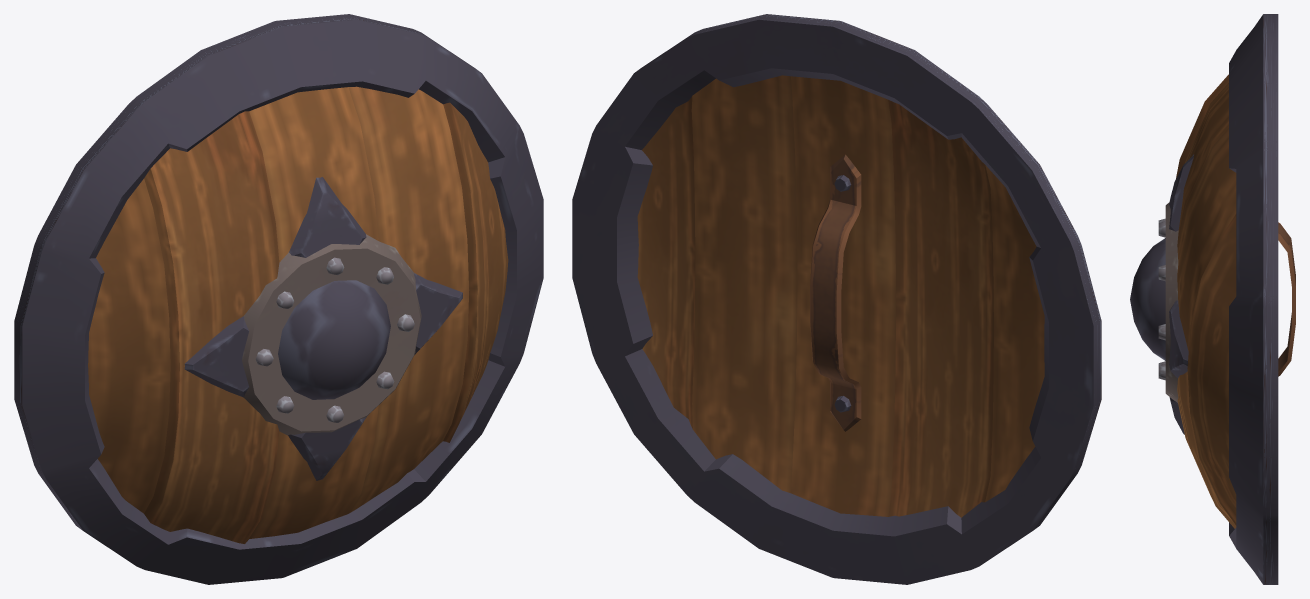
The model's file is shield_wooden.glb.
3 renders of one model, left to right at view 1: azimuth 30°, elevation 25°; view 2: azimuth 150°, elevation 25°; view 3: azimuth 270°, elevation 25°, orthographic. The views are drawn at different scales.
Parts seen in each view (by area): view 1: Shield_Wooden; view 2: Shield_Wooden; view 3: Shield_Wooden.
Part boxes in pixels (x1=…): Shield_Wooden: x1=14, y1=14, x2=543, y2=584; Shield_Wooden: x1=572, y1=14, x2=1101, y2=584; Shield_Wooden: x1=1130, y1=14, x2=1295, y2=584.
Size of the model in its own units: 0.6146 by 0.6209 by 0.1788.
Materials: 3 (3 with a texture image).
